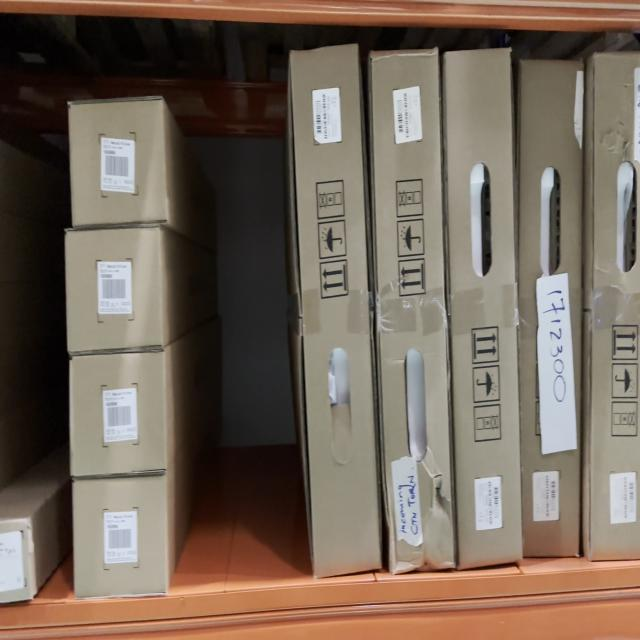box: (290, 42, 381, 576), (370, 50, 455, 574), (449, 45, 523, 564), (68, 103, 162, 223), (65, 229, 159, 348), (76, 484, 166, 594), (74, 361, 162, 471)
